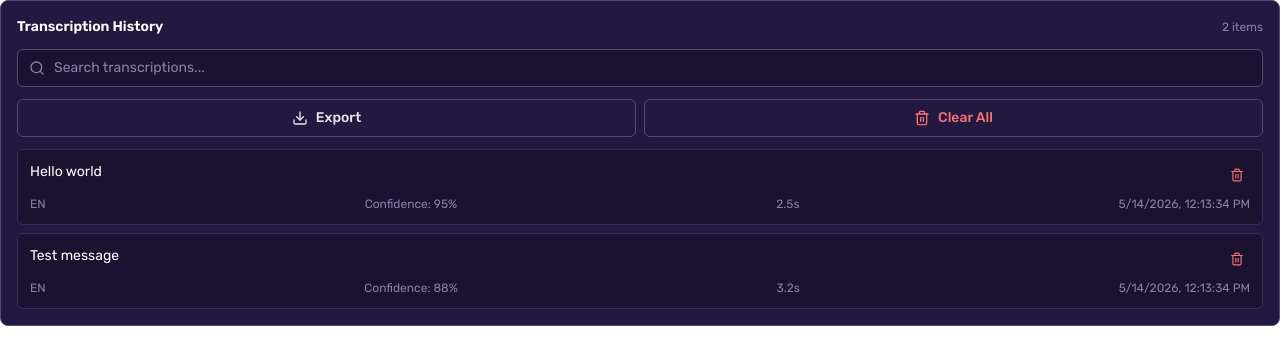
Test: filters transcriptions by search query
Type "Hello" into the field with placeholder "Search transcriptions..." at (640, 68), box [17, 49, 1263, 87]
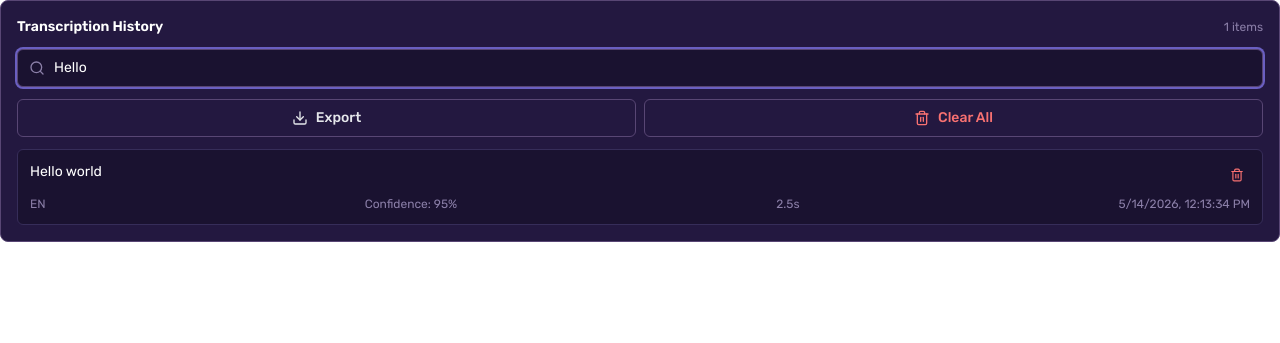
Expected: the text "Hello world" is shown, [30, 163, 102, 180]
Result: the text "Test message" is gone
